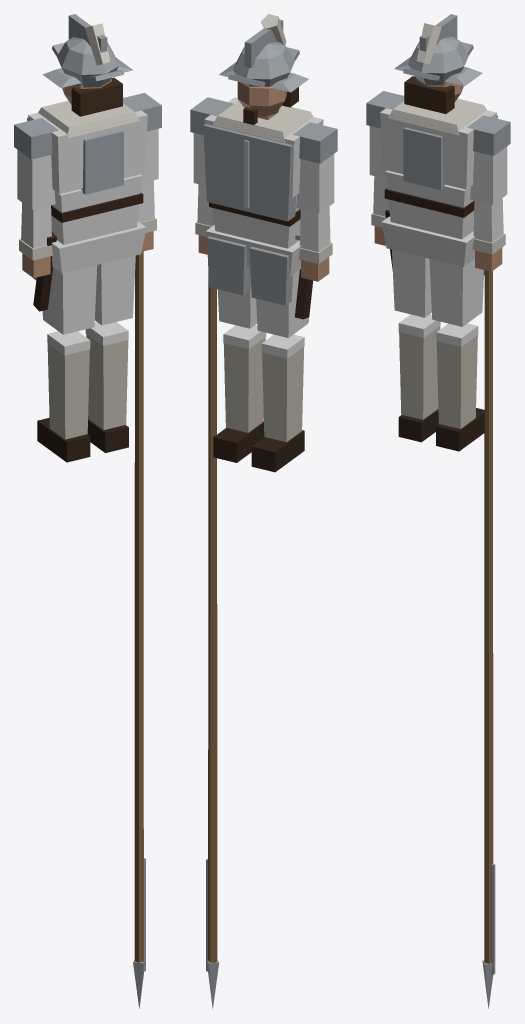
Rendered from soldier_em_pike_lod0.glb.
3 renders of one model, left to right at view 1: azimuth 30°, elevation 25°; view 2: azimuth 150°, elevation 25°; view 3: azimuth 330°, elevation 25°, orthographic. The views are drawn at different scales.
Parts seen in each view (by area): view 1: em_pike_lod0_static; view 2: em_pike_lod0_static; view 3: em_pike_lod0_static.
Part boxes in pixels (x1,y1,x2,y2): em_pike_lod0_static: (14,14,161,1008); em_pike_lod0_static: (190,14,337,1009); em_pike_lod0_static: (366,14,510,1008).
Size of the model in its own units: 0.61 by 4.49 by 0.361.
